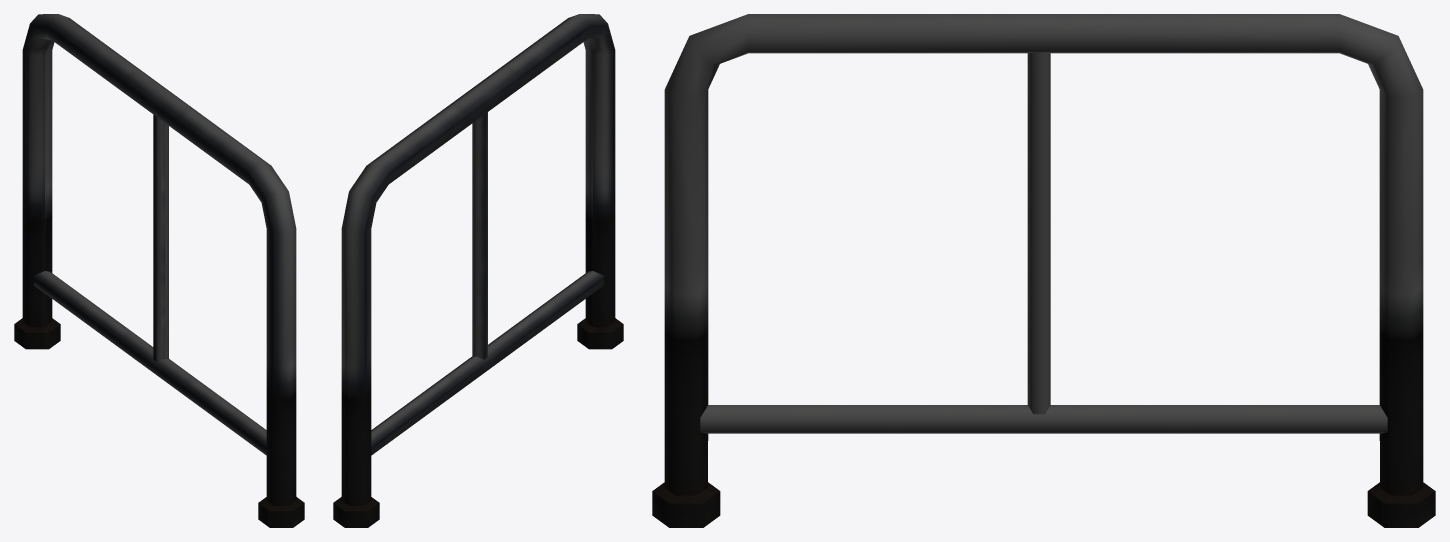
Rendered from Railing_05.FBX.
3 views of the same model, side by side, from view 1: azimuth 30°, elevation 25°; view 2: azimuth 150°, elevation 25°; view 3: azimuth 270°, elevation 25° (orthographic). The views are drawn at different scales.
Visible parts, largest first — view 1: Railing_05; view 2: Railing_05; view 3: Railing_05.
Part boxes in pixels (x1,y1,x2,y2): Railing_05: (14, 14, 304, 527); Railing_05: (333, 14, 623, 527); Railing_05: (652, 14, 1435, 527).
Size of the model in its own units: 10.85 by 102 by 144.
